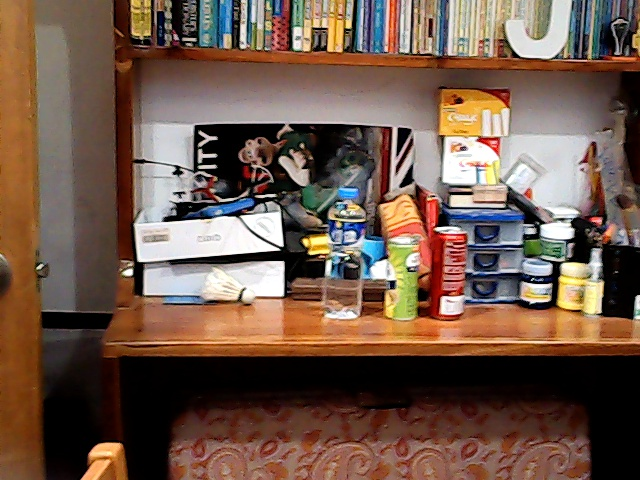Cola: (427, 223, 475, 318)
Pine Juice: (380, 234, 426, 325)
Summit Water: (320, 181, 368, 325)
